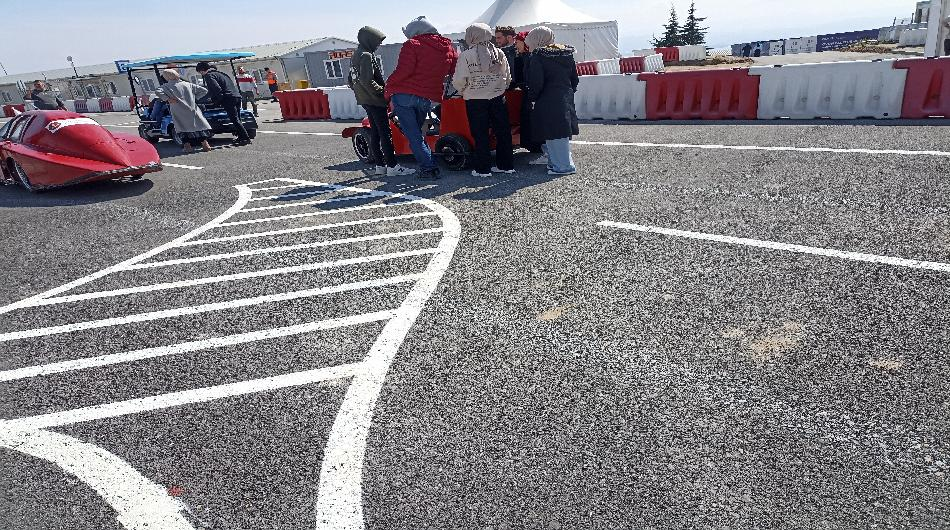yol_calismasi: (3, 164, 475, 529)
